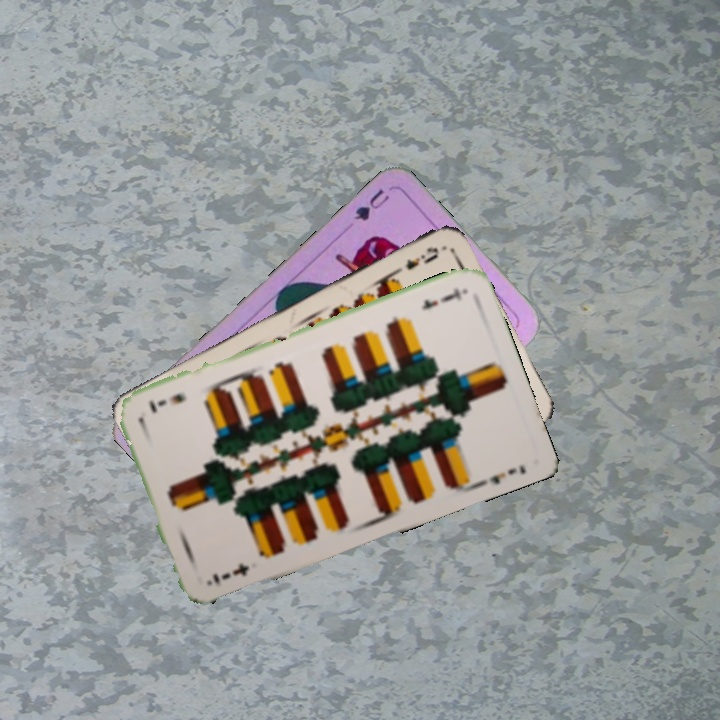E7: (417, 283, 468, 313), (208, 559, 252, 587)
E9: (390, 242, 442, 277)
GU: (350, 184, 393, 224)
